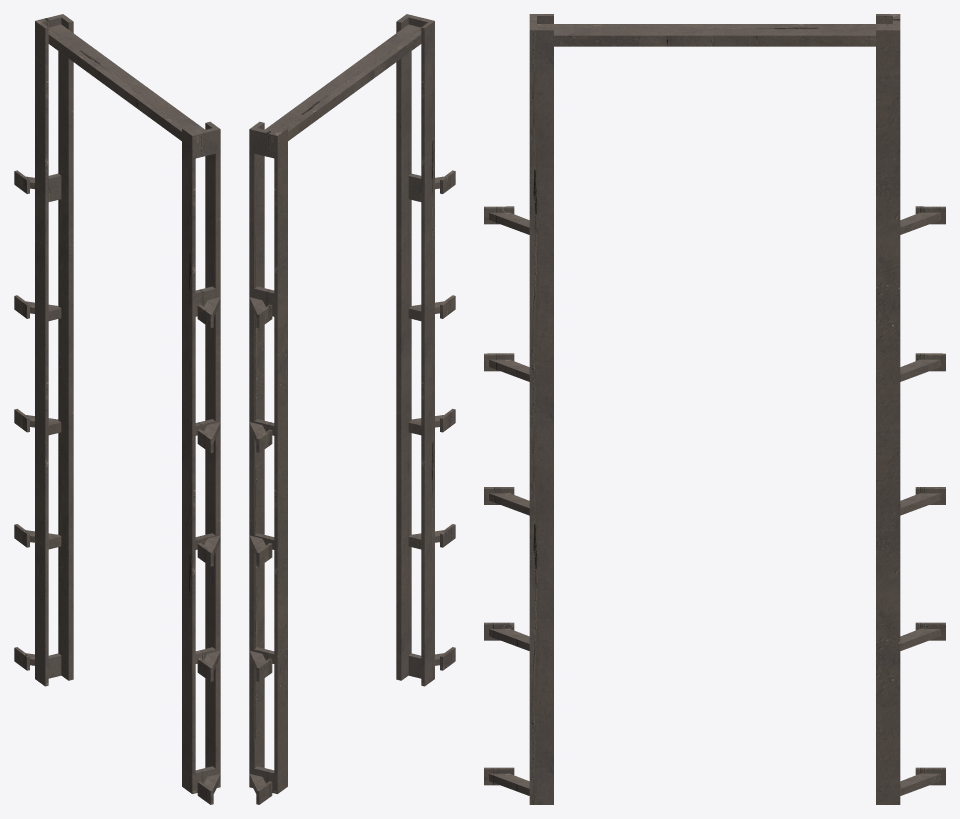
Rendered from canliferous_repbulic_door.fbx.
3 views of the same model, side by side, from view 1: azimuth 30°, elevation 25°; view 2: azimuth 150°, elevation 25°; view 3: azimuth 270°, elevation 25° (orthographic). The views are drawn at different scales.
Parts seen in each view (by area): view 1: SM_Republic_01; view 2: SM_Republic_01; view 3: SM_Republic_01.
Boxes of the visible parts, x1,y1,x2,y2 form: SM_Republic_01: (14,14,220,804); SM_Republic_01: (249,14,455,804); SM_Republic_01: (484,14,945,804).
Size of the model in its own units: 0.4653 by 9.89 by 5.34.
